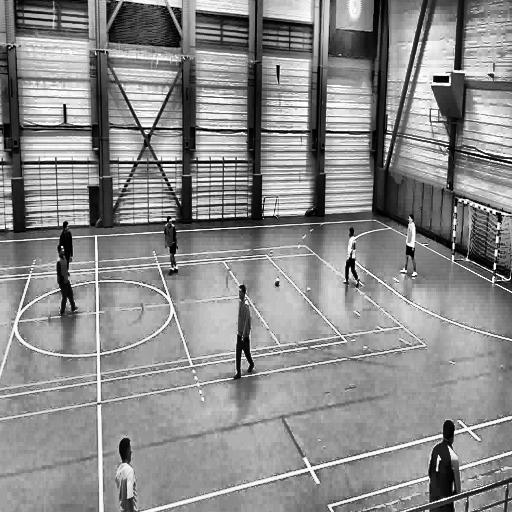ball: (274, 275, 282, 289)
player: (429, 417, 461, 512), (231, 283, 255, 383), (115, 434, 139, 512), (56, 246, 78, 324), (400, 212, 419, 279), (342, 226, 362, 289), (165, 216, 180, 277), (58, 219, 73, 270)
